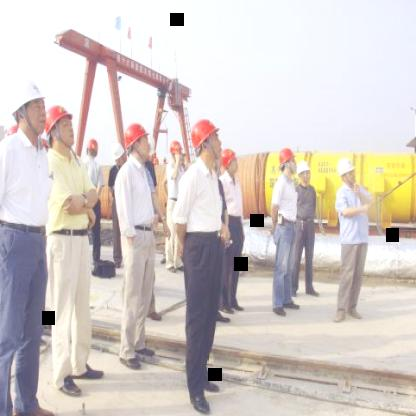helmet: (8, 72, 46, 138), (189, 116, 221, 168), (48, 105, 76, 153), (122, 121, 150, 164), (334, 154, 362, 188), (219, 144, 244, 178), (276, 146, 298, 174), (112, 141, 127, 172), (296, 158, 312, 186), (168, 138, 182, 166), (84, 136, 100, 158)
